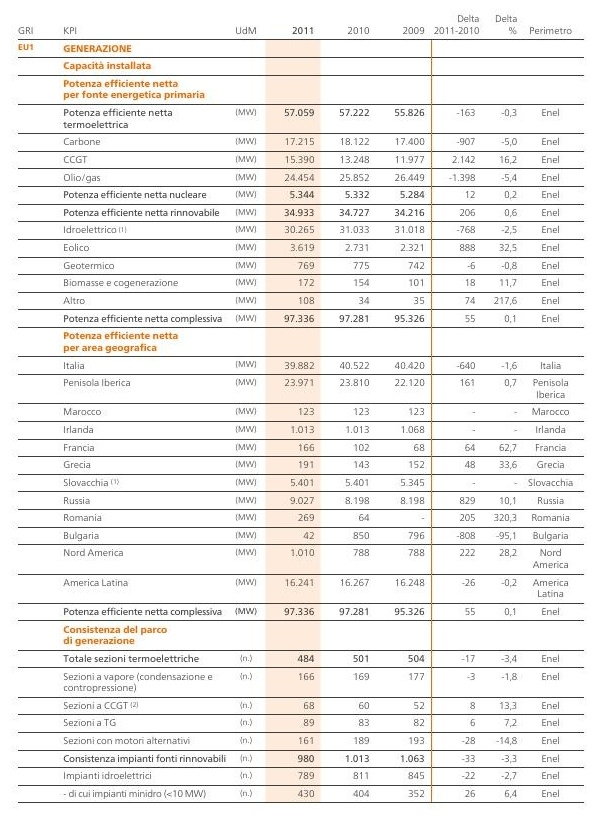table: (0, 0, 608, 820)
